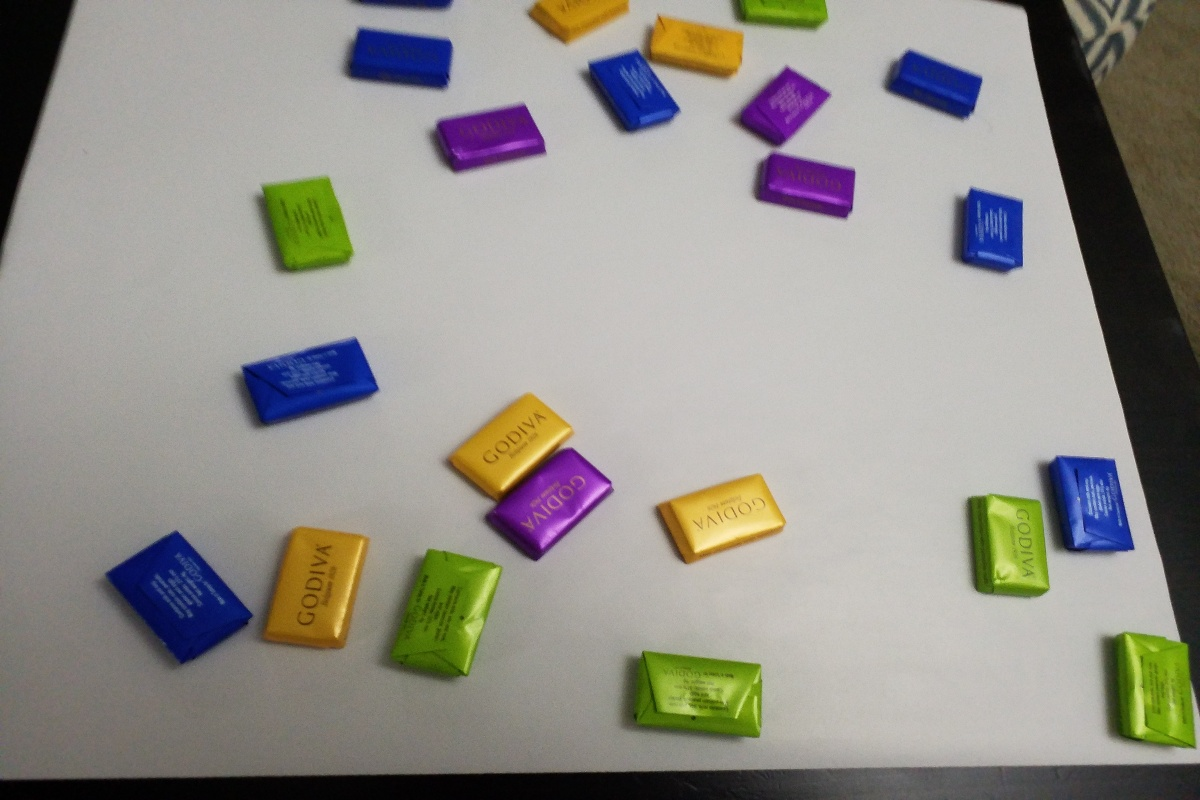chocolate_blue: (97, 511, 258, 679), (233, 338, 395, 432), (1041, 447, 1135, 572), (963, 483, 1050, 608), (576, 50, 690, 141), (338, 19, 466, 92), (952, 178, 1033, 288), (887, 43, 990, 127)
chocolate_green: (379, 532, 509, 688), (244, 170, 364, 280), (1109, 629, 1194, 756)
chocolate_purple: (495, 460, 613, 560), (423, 97, 554, 181), (748, 150, 871, 224), (735, 69, 829, 141)
chocolate_yellow: (647, 458, 793, 576), (255, 523, 366, 652), (443, 392, 563, 491)
